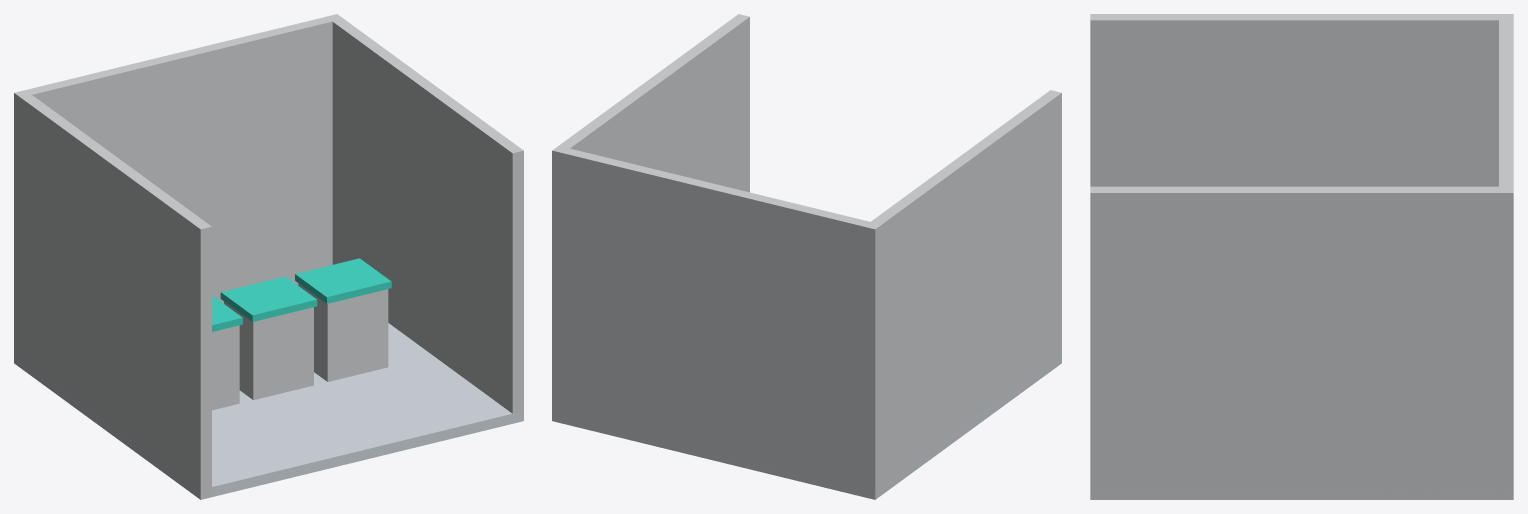
3 views of the same model, side by side, from view 1: azimuth 30°, elevation 25°; view 2: azimuth 150°, elevation 25°; view 3: azimuth 270°, elevation 25° (orthographic). The views are drawn at different scales.
Visible parts, largest first — view 1: Exhibition Booth Concept; view 2: Exhibition Booth Concept; view 3: Exhibition Booth Concept.
Part boxes in pixels (<box>): Exhibition Booth Concept: <box>14,14,523,499</box>; Exhibition Booth Concept: <box>552,14,1061,499</box>; Exhibition Booth Concept: <box>1090,14,1513,499</box>.
Size of the model in its own units: 4 by 3.2 by 4.
